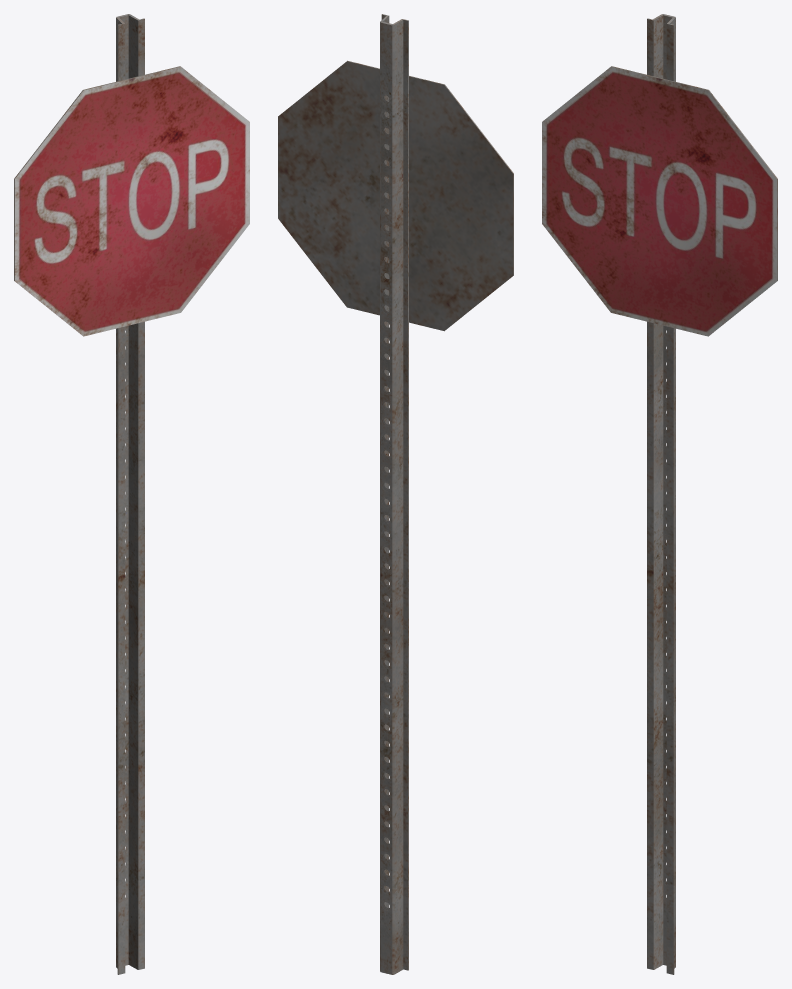
The picture shows the model from 3 angles, left to right: view 1: azimuth 30°, elevation 25°; view 2: azimuth 150°, elevation 25°; view 3: azimuth 330°, elevation 25°; orthographic projection.
Visible parts, largest first — view 1: geometry_0; view 2: geometry_0; view 3: geometry_0.
Boxes of the visible parts, x1,y1,x2,y2 form: geometry_0: [14, 14, 249, 974]; geometry_0: [278, 14, 513, 974]; geometry_0: [542, 14, 777, 974].
Size of the model in its own units: 0.7364 by 2.84 by 0.0537.
1 material, 1 textured.
